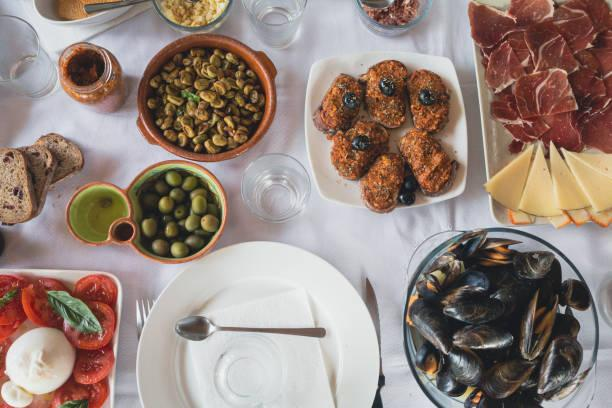Braised Crucian Carp: (402, 226, 597, 405), (301, 50, 460, 211), (135, 33, 277, 163)
